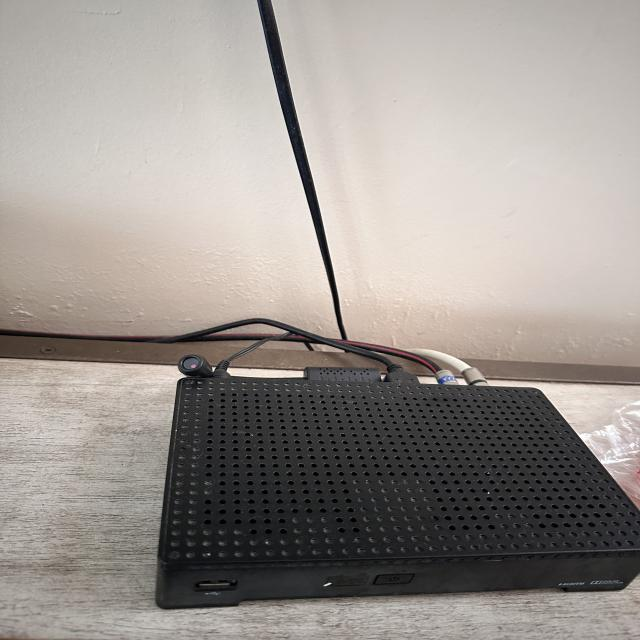hidden camera: (177, 353, 206, 372)
